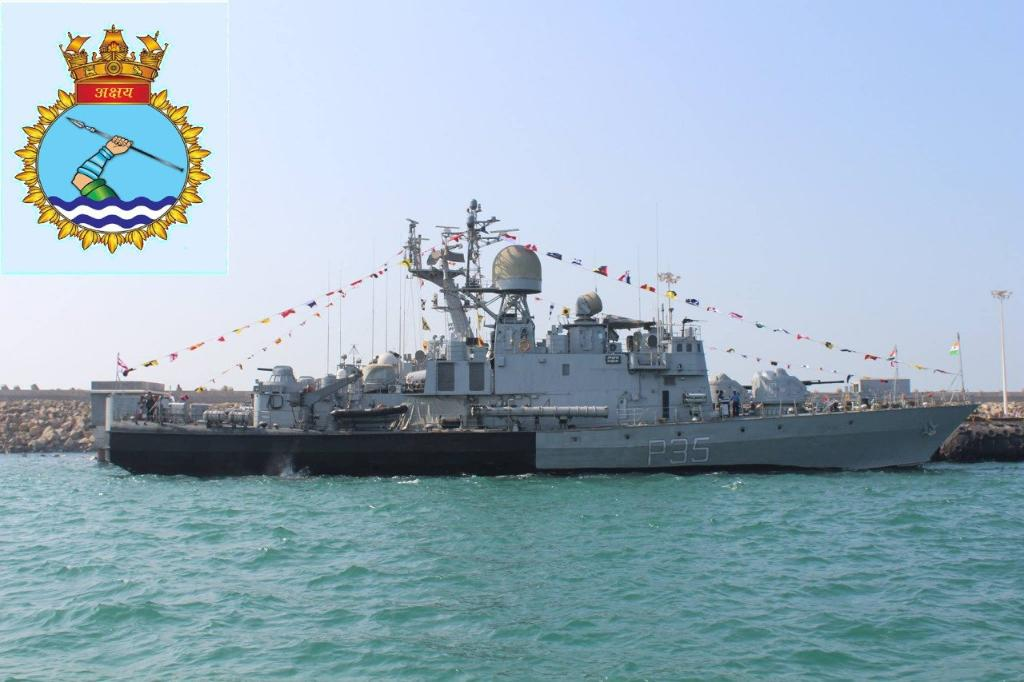Warship: (98, 222, 978, 484)
